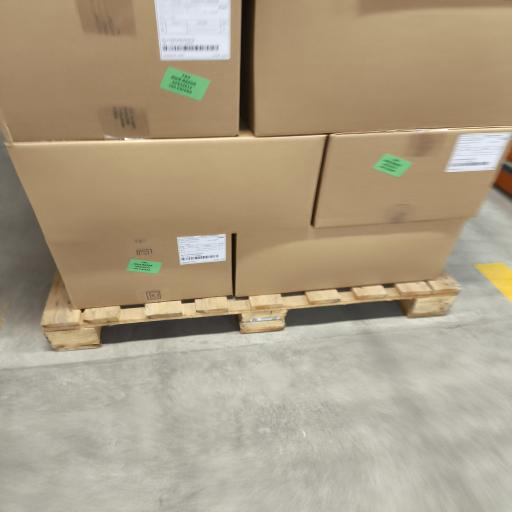pallet: (42, 273, 460, 350)
